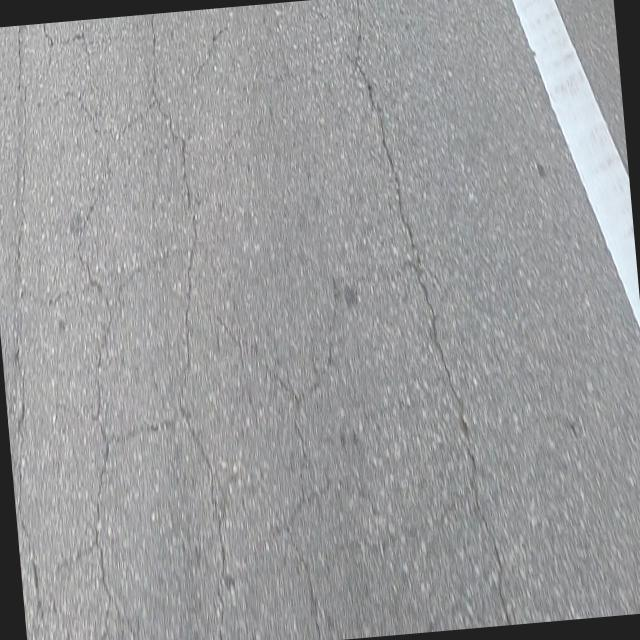Retak-Buaya: (12, 7, 341, 640)
Retak-Memanjang: (353, 0, 513, 625)
